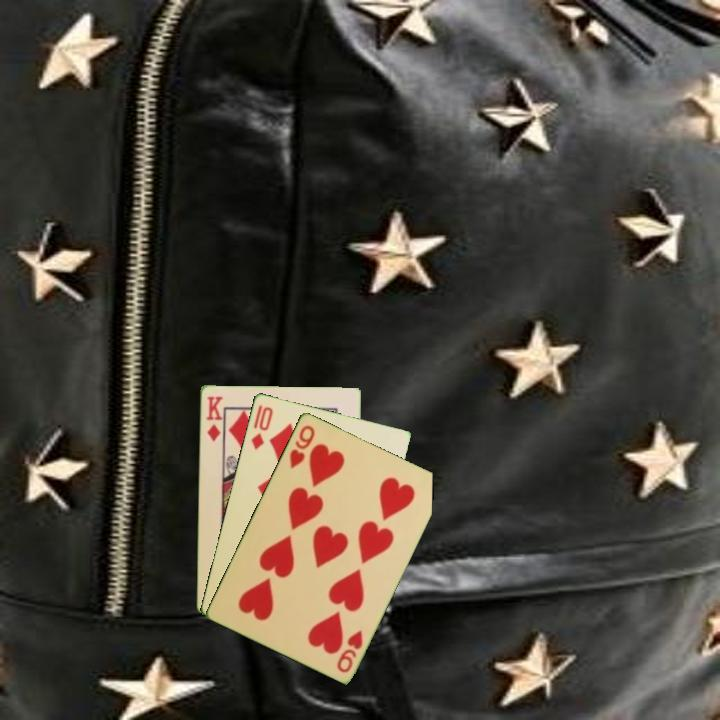10d: (247, 401, 276, 452)
9h: (286, 421, 318, 471), (333, 626, 365, 675)
Kd: (203, 392, 225, 444)
